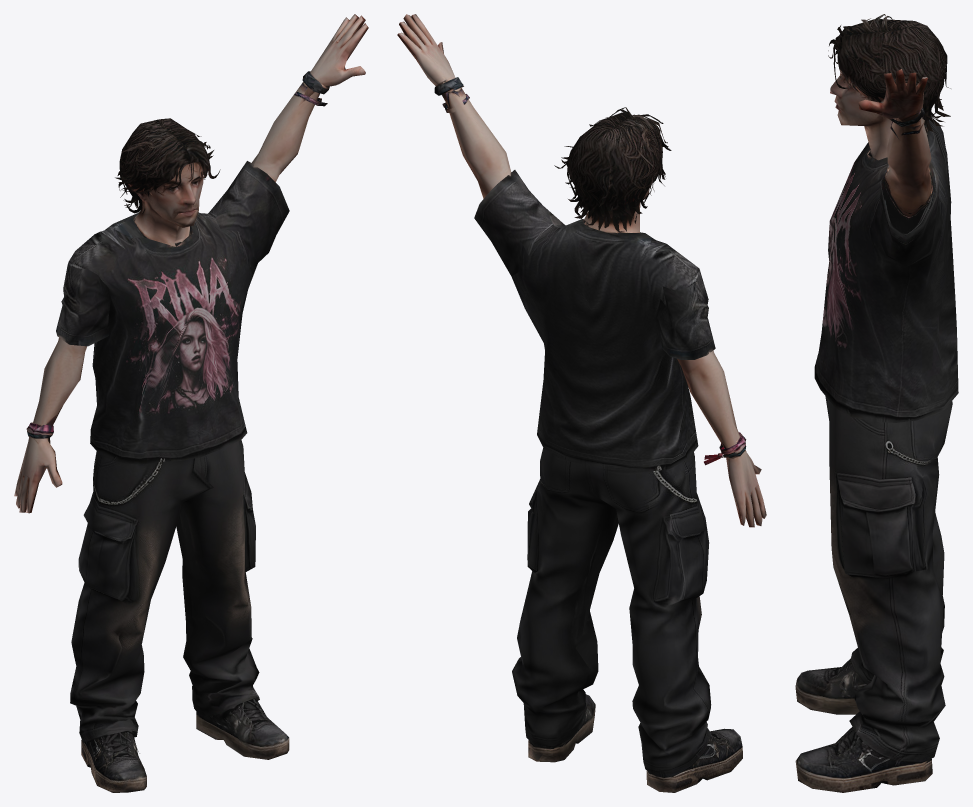
File: fan_01_middle_posed.glb
3 views of the same model, side by side, from view 1: azimuth 30°, elevation 25°; view 2: azimuth 150°, elevation 25°; view 3: azimuth 270°, elevation 25° (orthographic). The views are drawn at different scales.
Parts seen in each view (by area): view 1: RinaFan01_ConcertPose; view 2: RinaFan01_ConcertPose; view 3: RinaFan01_ConcertPose.
Boxes of the visible parts, x1,y1,x2,y2 form: RinaFan01_ConcertPose: (14, 14, 368, 792); RinaFan01_ConcertPose: (397, 14, 766, 792); RinaFan01_ConcertPose: (795, 14, 958, 792).
Size of the model in its own units: 0.5795 by 1.09 by 0.2054.
1 material, 1 textured.
